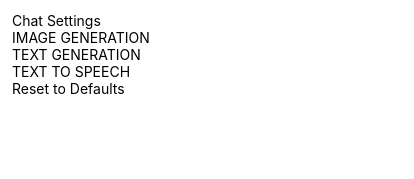
it: GenerationSettingsModal › shows generation details toggle in text generation section
The width and height of the screenshot is (414, 179).
Click the text "TEXT GENERATION": (81, 54) 12,46 -> 150,63
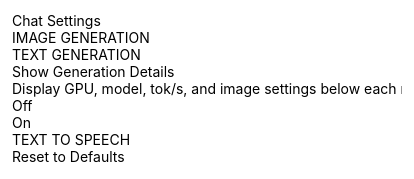
Expected: the text "Show Generation Details" is shown, 12,63 -> 174,80
